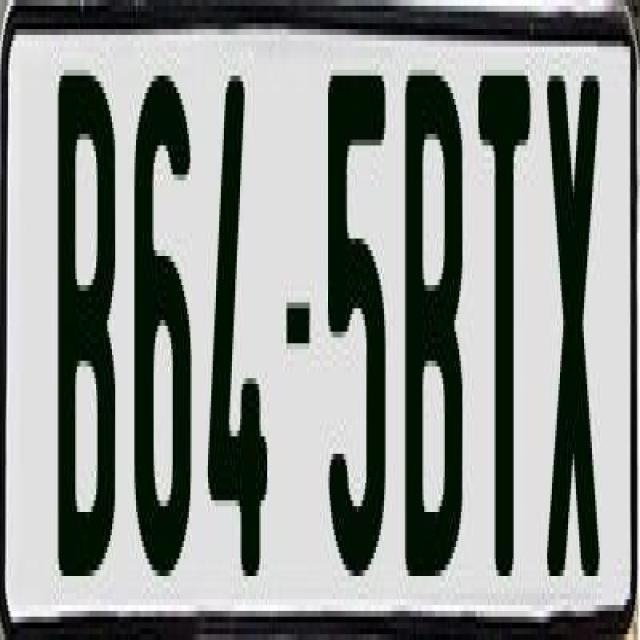4: (206, 70, 274, 576)
5: (328, 58, 389, 570)
6: (132, 70, 195, 576)
B: (55, 64, 122, 588), (404, 64, 470, 570)
T: (474, 70, 534, 588)
X: (546, 58, 608, 588)
